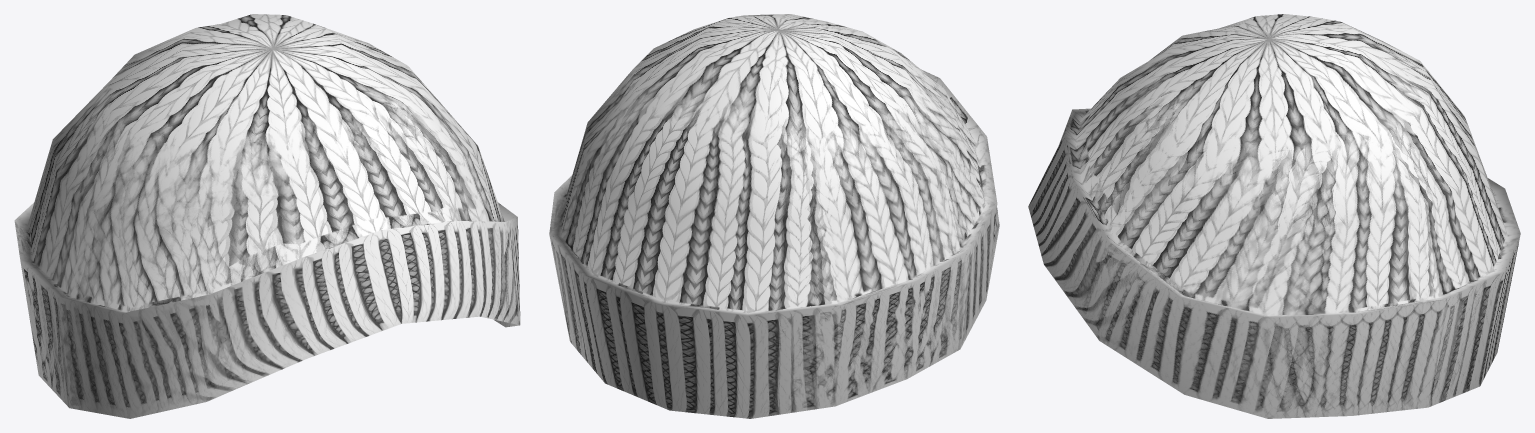
The model's file is tuque.glb.
3 renders of one model, left to right at view 1: azimuth 30°, elevation 25°; view 2: azimuth 150°, elevation 25°; view 3: azimuth 270°, elevation 25°, orthographic. The views are drawn at different scales.
Visible parts, largest first — view 1: Tuque; view 2: Tuque; view 3: Tuque.
Part boxes in pixels (left/top/right/bottom): Tuque: left=14, top=14, right=520, bottom=418; Tuque: left=549, top=14, right=999, bottom=418; Tuque: left=1028, top=14, right=1520, bottom=418.
Size of the model in its own units: 9.7 by 7.4 by 10.44.
Materials: 1 (1 with a texture image).
